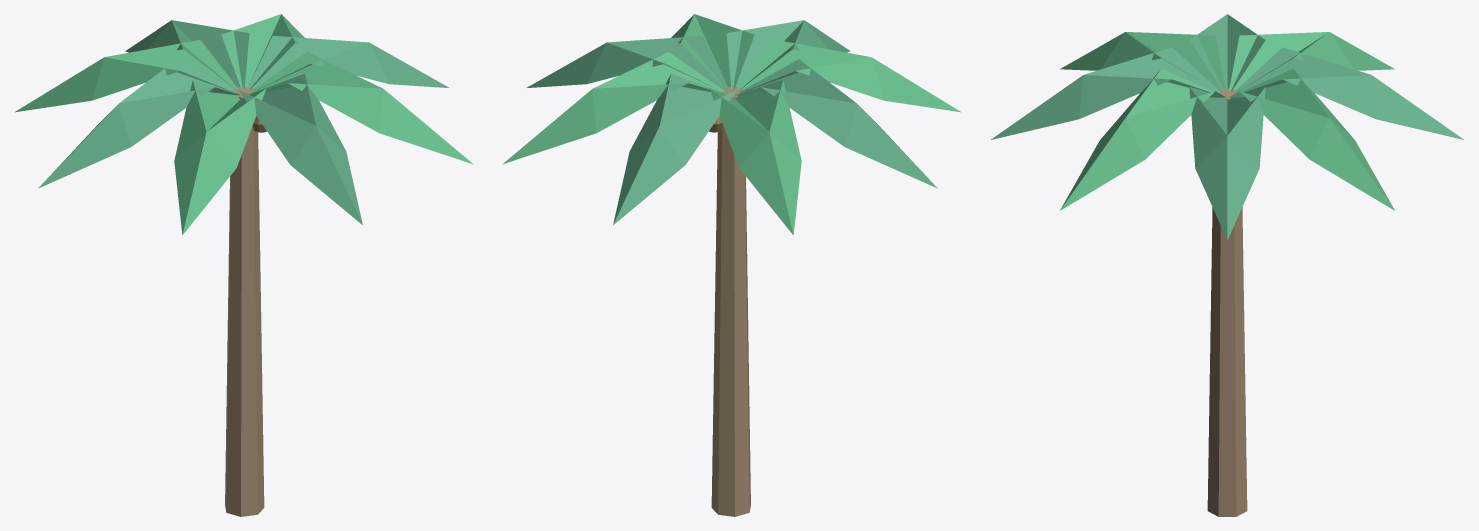
The model's file is palm.glb.
The picture shows the model from 3 angles, left to right: view 1: azimuth 30°, elevation 25°; view 2: azimuth 150°, elevation 25°; view 3: azimuth 270°, elevation 25°; orthographic projection.
Visible parts, largest first — view 1: frond (×8), trunk; view 2: frond (×8), trunk; view 3: frond (×8), trunk.
Boxes of the visible parts, x1,y1,x2,y2 form: frond (×8): [15, 14, 473, 235]; trunk: [225, 87, 264, 516]; frond (×8): [502, 14, 960, 235]; trunk: [711, 87, 750, 516]; frond (×8): [991, 14, 1463, 240]; trunk: [1207, 88, 1247, 516].
Size of the model in its own units: 5.6 by 5.8 by 5.6.
